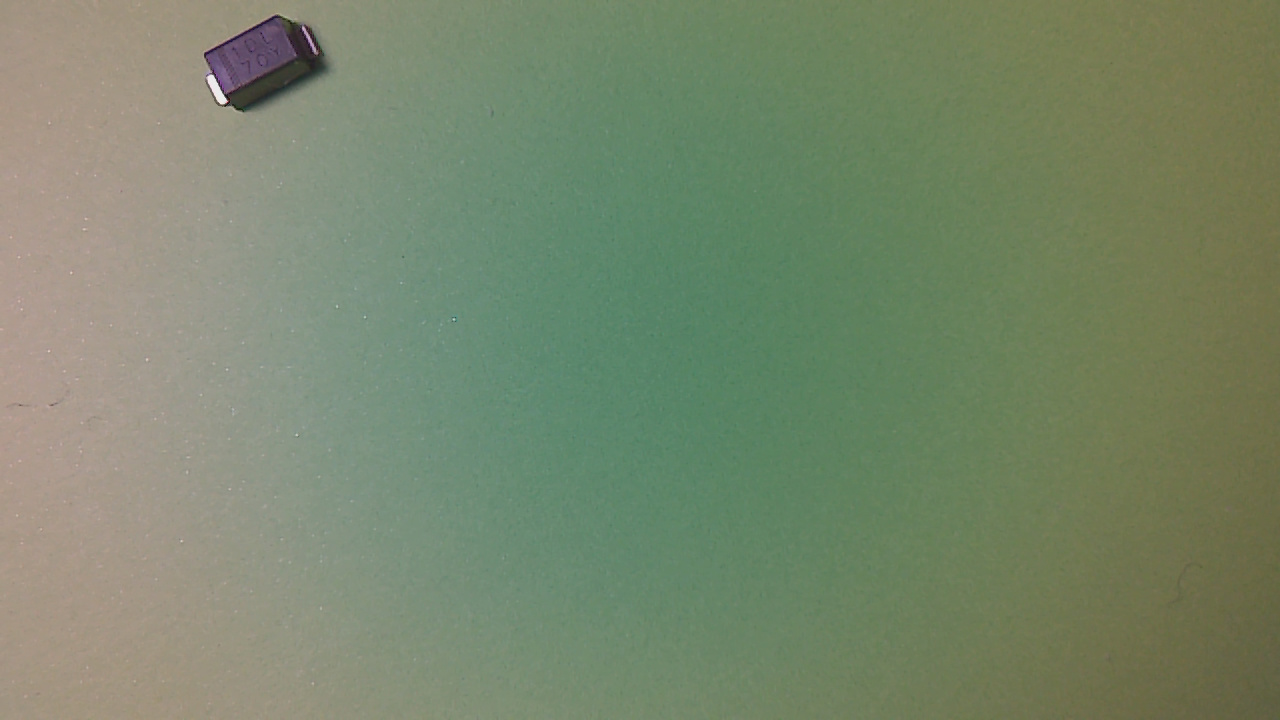Diode: (205, 17, 331, 121)
